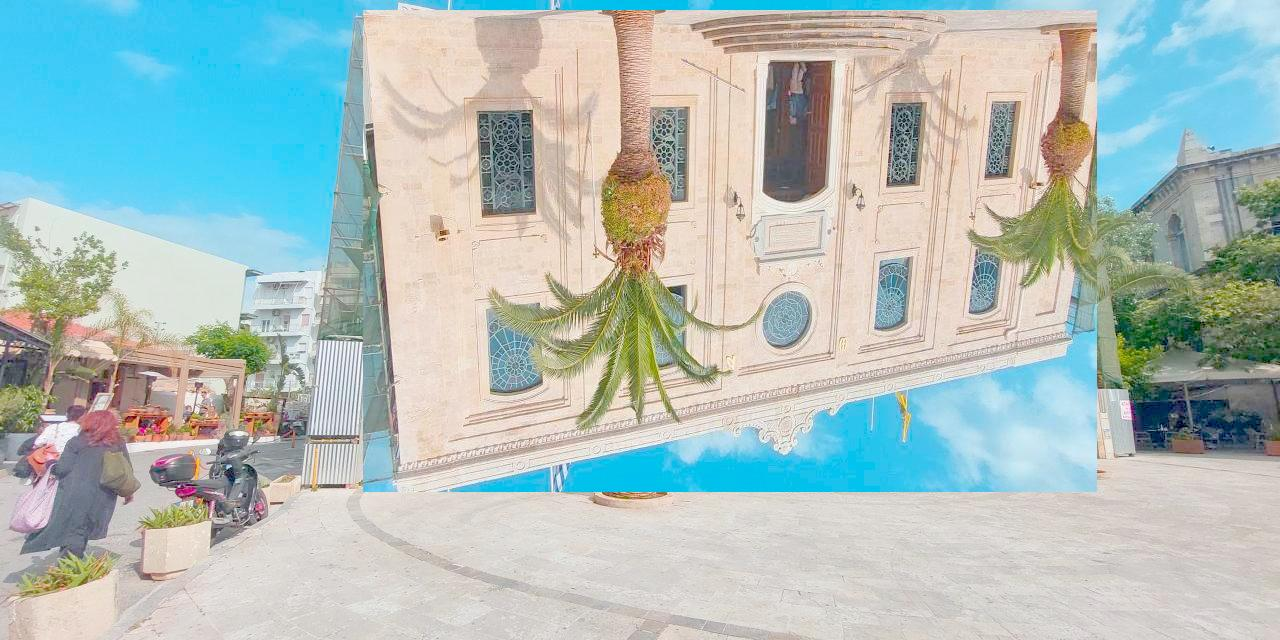Agios Titos: (364, 11, 1098, 493)
